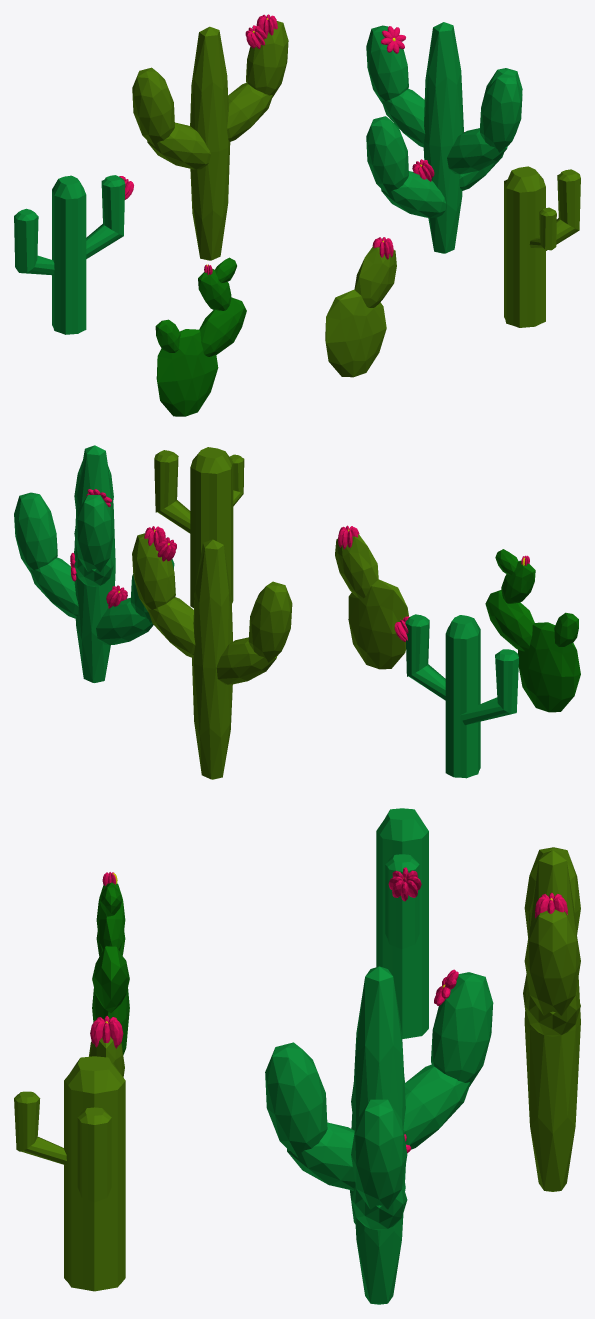
The model's file is Kakteen.fbx.
The picture shows the model from 3 angles, top to bottom: view 1: azimuth 30°, elevation 25°; view 2: azimuth 150°, elevation 25°; view 3: azimuth 270°, elevation 25°; orthographic projection. The views are drawn at different scales.
Parts seen in each view (by area): view 1: Icosphere.007, Icosphere.005, Icosphere.000, Cube, Icosphere.001, Icosphere.002; view 2: Icosphere.005, Icosphere.007, Icosphere.000, Icosphere.001, Cube, Icosphere.002; view 3: Icosphere.007, Icosphere.005, Cube, Icosphere.000, Icosphere.001, Icosphere.002.
Part boxes in pixels (box(x1,y1,x2,y2)): Icosphere.007: box(366, 22, 522, 253); Icosphere.005: box(132, 14, 288, 260); Icosphere.000: box(14, 175, 133, 334); Cube: box(504, 166, 580, 327); Icosphere.001: box(155, 257, 246, 416); Icosphere.002: box(325, 237, 396, 377); Icosphere.005: box(132, 526, 292, 779); Icosphere.007: box(14, 445, 174, 682); Icosphere.000: box(394, 614, 518, 778); Icosphere.001: box(485, 549, 580, 712); Cube: box(154, 447, 244, 607); Icosphere.002: box(335, 525, 408, 669); Icosphere.007: box(265, 966, 493, 1304); Icosphere.005: box(523, 847, 580, 1191); Cube: box(14, 1056, 125, 1291); Icosphere.000: box(376, 808, 428, 1038); Icosphere.001: box(92, 872, 129, 1054); Icosphere.002: box(89, 1016, 124, 1077).
Size of the model in its own units: 810 by 376 by 549.
